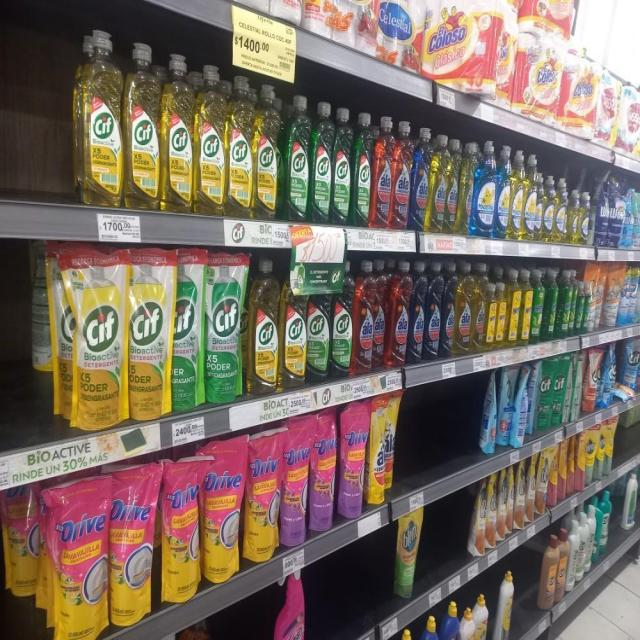ala_conc_amarillo: (430, 133, 446, 234), (456, 262, 471, 356), (446, 136, 459, 234), (472, 264, 486, 352)
ala_conc_azul: (411, 126, 429, 232), (426, 260, 442, 360), (410, 260, 425, 364), (442, 262, 455, 358)
ala_conc_rojo: (353, 260, 373, 376), (372, 115, 392, 230), (389, 259, 409, 368), (392, 120, 411, 230), (374, 260, 388, 371)
ala_sachet_amarillo: (369, 395, 395, 504)
cif_conc_bot_amarilla: (79, 30, 123, 206), (124, 42, 160, 210), (162, 52, 194, 214), (194, 61, 226, 217), (247, 259, 279, 394), (226, 74, 252, 219), (254, 82, 281, 221), (281, 262, 306, 389)
cif_conc_botella_verde: (284, 94, 310, 223), (307, 262, 330, 384), (311, 99, 332, 225), (332, 106, 352, 227), (332, 261, 352, 379), (353, 111, 371, 228)
cif_conc_sachet_amarillo: (73, 245, 126, 430), (128, 246, 170, 420)
cif_conc_sachet_verde: (204, 250, 244, 405), (171, 247, 203, 411)
drive: (110, 462, 157, 626), (202, 436, 242, 583), (162, 454, 200, 602), (244, 427, 280, 563), (281, 420, 308, 546)
magistral_con_amarillo: (523, 152, 537, 241), (510, 147, 522, 240), (555, 177, 568, 243), (543, 173, 554, 243), (568, 188, 580, 245), (579, 191, 590, 245), (536, 170, 543, 242)
magistral_con_azul: (474, 140, 495, 238), (496, 144, 510, 239), (441, 606, 457, 640)
